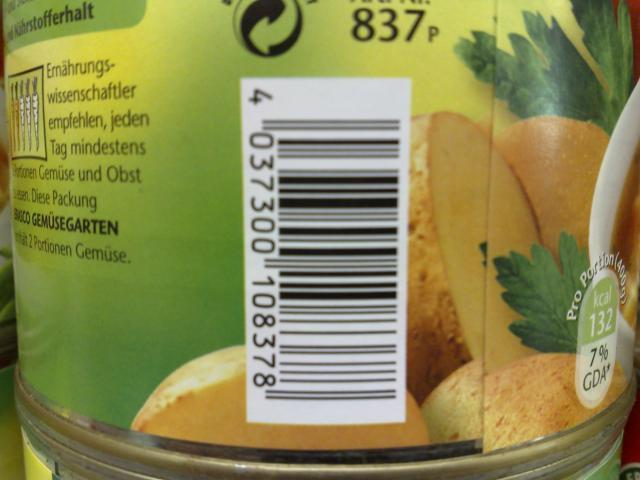Barcode: (240, 78, 412, 425)
